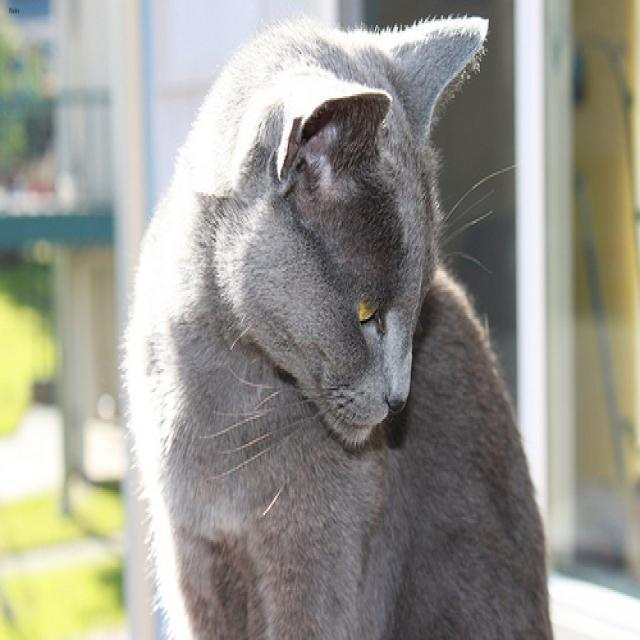Russian_Blue: (212, 13, 486, 449)
